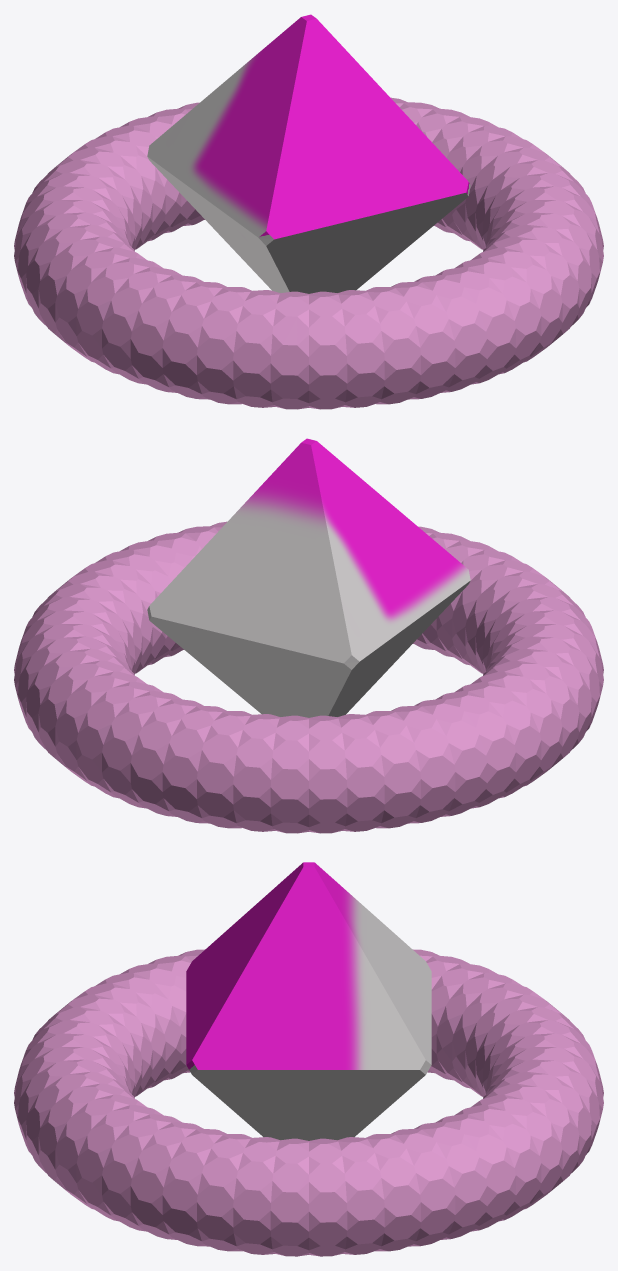
The model's file is defense.obj.
The picture shows the model from 3 angles, top to bottom: view 1: azimuth 30°, elevation 25°; view 2: azimuth 150°, elevation 25°; view 3: azimuth 270°, elevation 25°; orthographic projection.
Visible parts, largest first — view 1: 立方体; view 2: 立方体; view 3: 立方体.
Part boxes in pixels (x1,y1,x2,y2): 立方体: [14, 14, 603, 409]; 立方体: [14, 438, 603, 833]; 立方体: [14, 862, 603, 1256].
Size of the model in its own units: 0.9895 by 0.5634 by 0.9895.
1 material, 1 textured.
